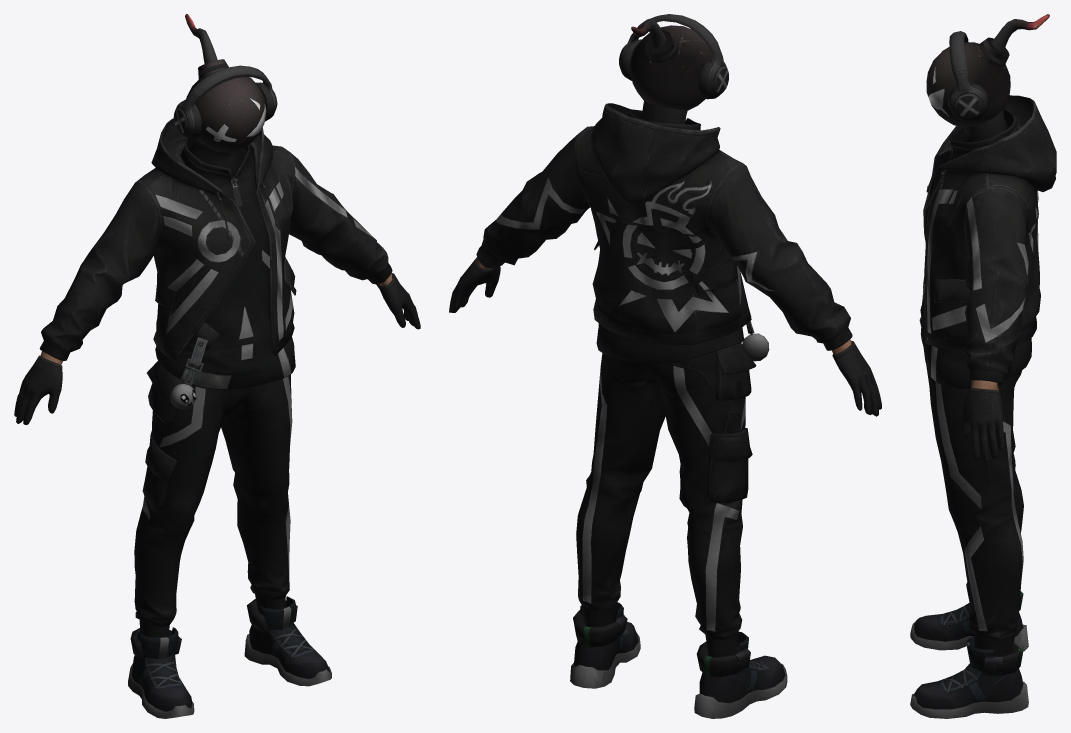
File: hidden_blast_bundle_free_fire_1st_booyah_pass.glb
The picture shows the model from 3 angles, left to right: view 1: azimuth 30°, elevation 25°; view 2: azimuth 150°, elevation 25°; view 3: azimuth 270°, elevation 25°; orthographic projection. The views are drawn at different scales.
Parts seen in each view (by area): view 1: Mesh_0009.rip, Mesh_0008.rip, Mesh_0007.rip, Mesh_0010.rip; view 2: Mesh_0009.rip, Mesh_0008.rip, Mesh_0007.rip, Mesh_0010.rip; view 3: Mesh_0009.rip, Mesh_0008.rip, Mesh_0007.rip, Mesh_0010.rip.
Part boxes in pixels (<box>): Mesh_0009.rip: <box>14,118,420,424</box>; Mesh_0008.rip: <box>134,361,292,637</box>; Mesh_0007.rip: <box>128,596,331,718</box>; Mesh_0010.rip: <box>173,14,277,152</box>; Mesh_0009.rip: <box>449,101,881,416</box>; Mesh_0008.rip: <box>576,343,756,657</box>; Mesh_0007.rip: <box>570,602,787,718</box>; Mesh_0010.rip: <box>619,14,728,110</box>; Mesh_0009.rip: <box>919,95,1056,463</box>; Mesh_0008.rip: <box>926,365,1023,656</box>; Mesh_0007.rip: <box>910,582,1028,718</box>; Mesh_0010.rip: <box>926,14,1049,127</box>.
Size of the model in its own units: 1.72 by 2.63 by 0.5281.
Materials: 5 (5 with a texture image).
